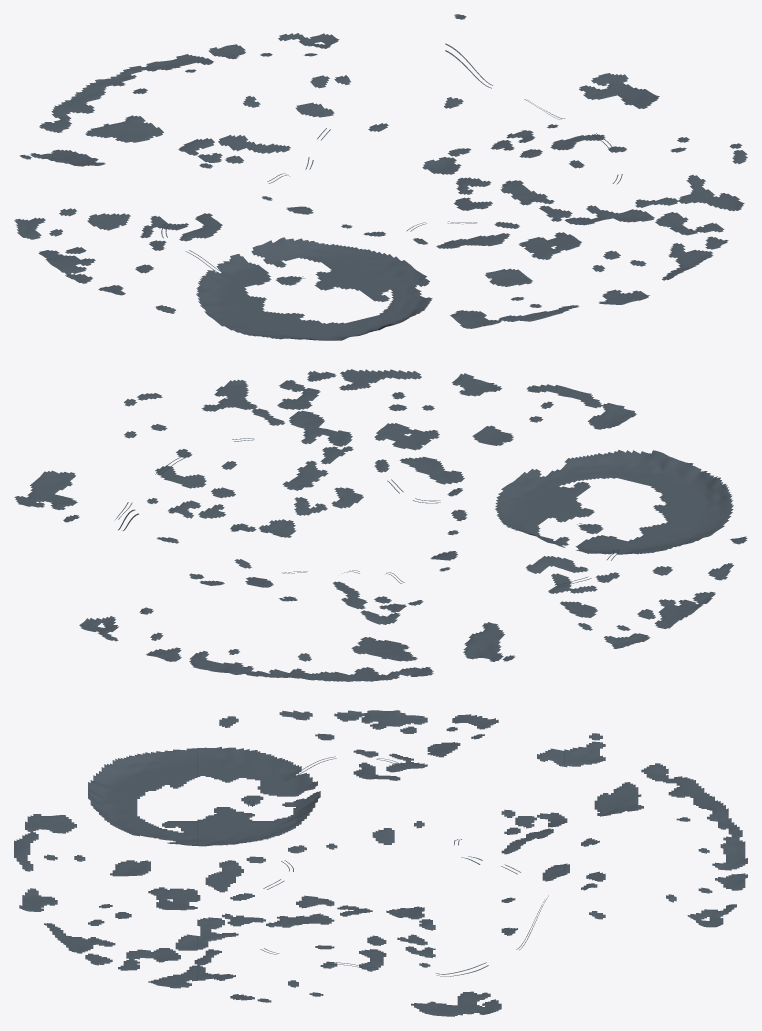
File: ponds.glb
3 renders of one model, top to bottom at view 1: azimuth 30°, elevation 25°; view 2: azimuth 150°, elevation 25°; view 3: azimuth 270°, elevation 25°, orthographic.
Parts seen in each view (by area): view 1: ponds_puddles; view 2: ponds_puddles; view 3: ponds_puddles.
Part boxes in pixels (left/top/right/bottom): ponds_puddles: left=14, top=14, right=747, bottom=340; ponds_puddles: left=14, top=369, right=747, bottom=681; ponds_puddles: left=14, top=710, right=747, bottom=1016.
Size of the model in its own units: 394 by 33.34 by 402.
